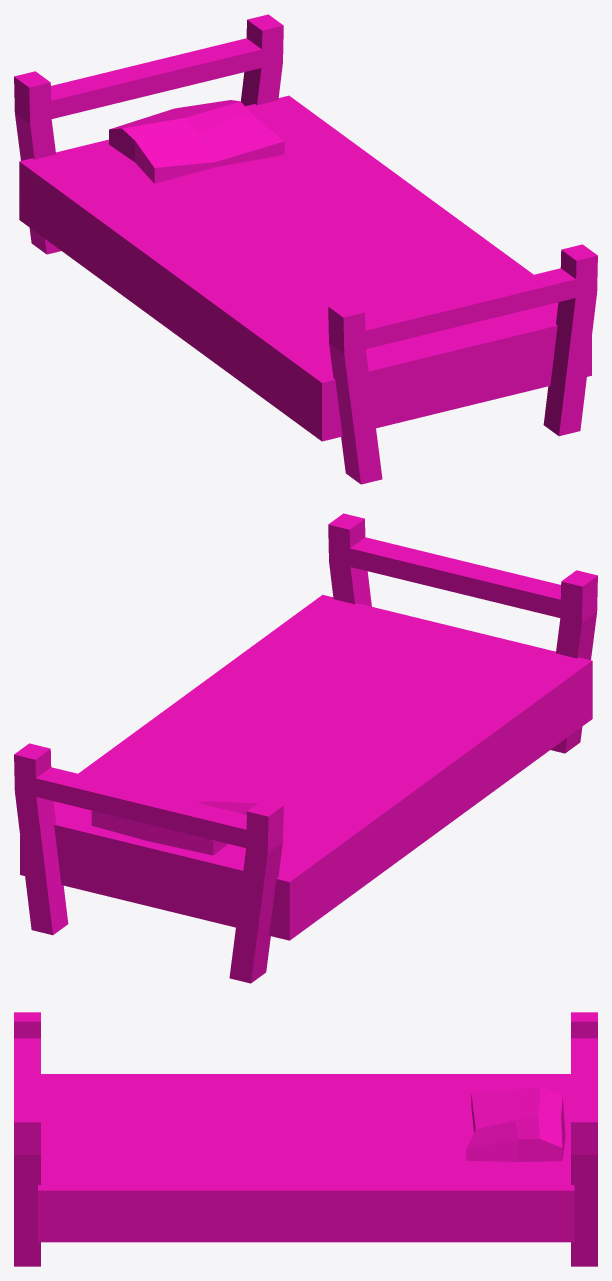
File: study_bed_3_meshCollider.fbx
The picture shows the model from 3 angles, top to bottom: view 1: azimuth 30°, elevation 25°; view 2: azimuth 150°, elevation 25°; view 3: azimuth 270°, elevation 25°; orthographic projection. The views are drawn at different scales.
Visible parts, largest first — view 1: study_bed_3_meshCollider, study_bed_3_pillow_meshCollider; view 2: study_bed_3_meshCollider, study_bed_3_pillow_meshCollider; view 3: study_bed_3_meshCollider, study_bed_3_pillow_meshCollider.
Part boxes in pixels (x1,y1,x2,y2): study_bed_3_meshCollider: (14, 14, 597, 484); study_bed_3_pillow_meshCollider: (109, 100, 284, 183); study_bed_3_meshCollider: (14, 513, 597, 983); study_bed_3_pillow_meshCollider: (91, 773, 257, 855); study_bed_3_meshCollider: (14, 1012, 597, 1266); study_bed_3_pillow_meshCollider: (466, 1086, 565, 1161).
Bounding box in the file's own units: 69.24 × 41.97 × 146.
